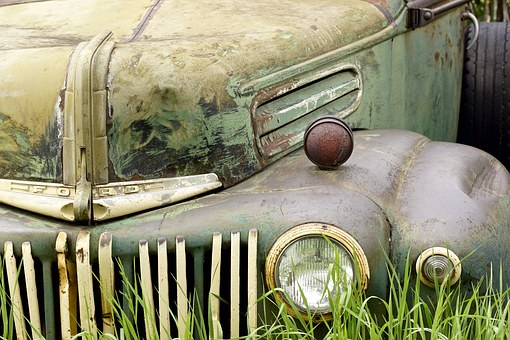rust: (297, 116, 362, 183)
